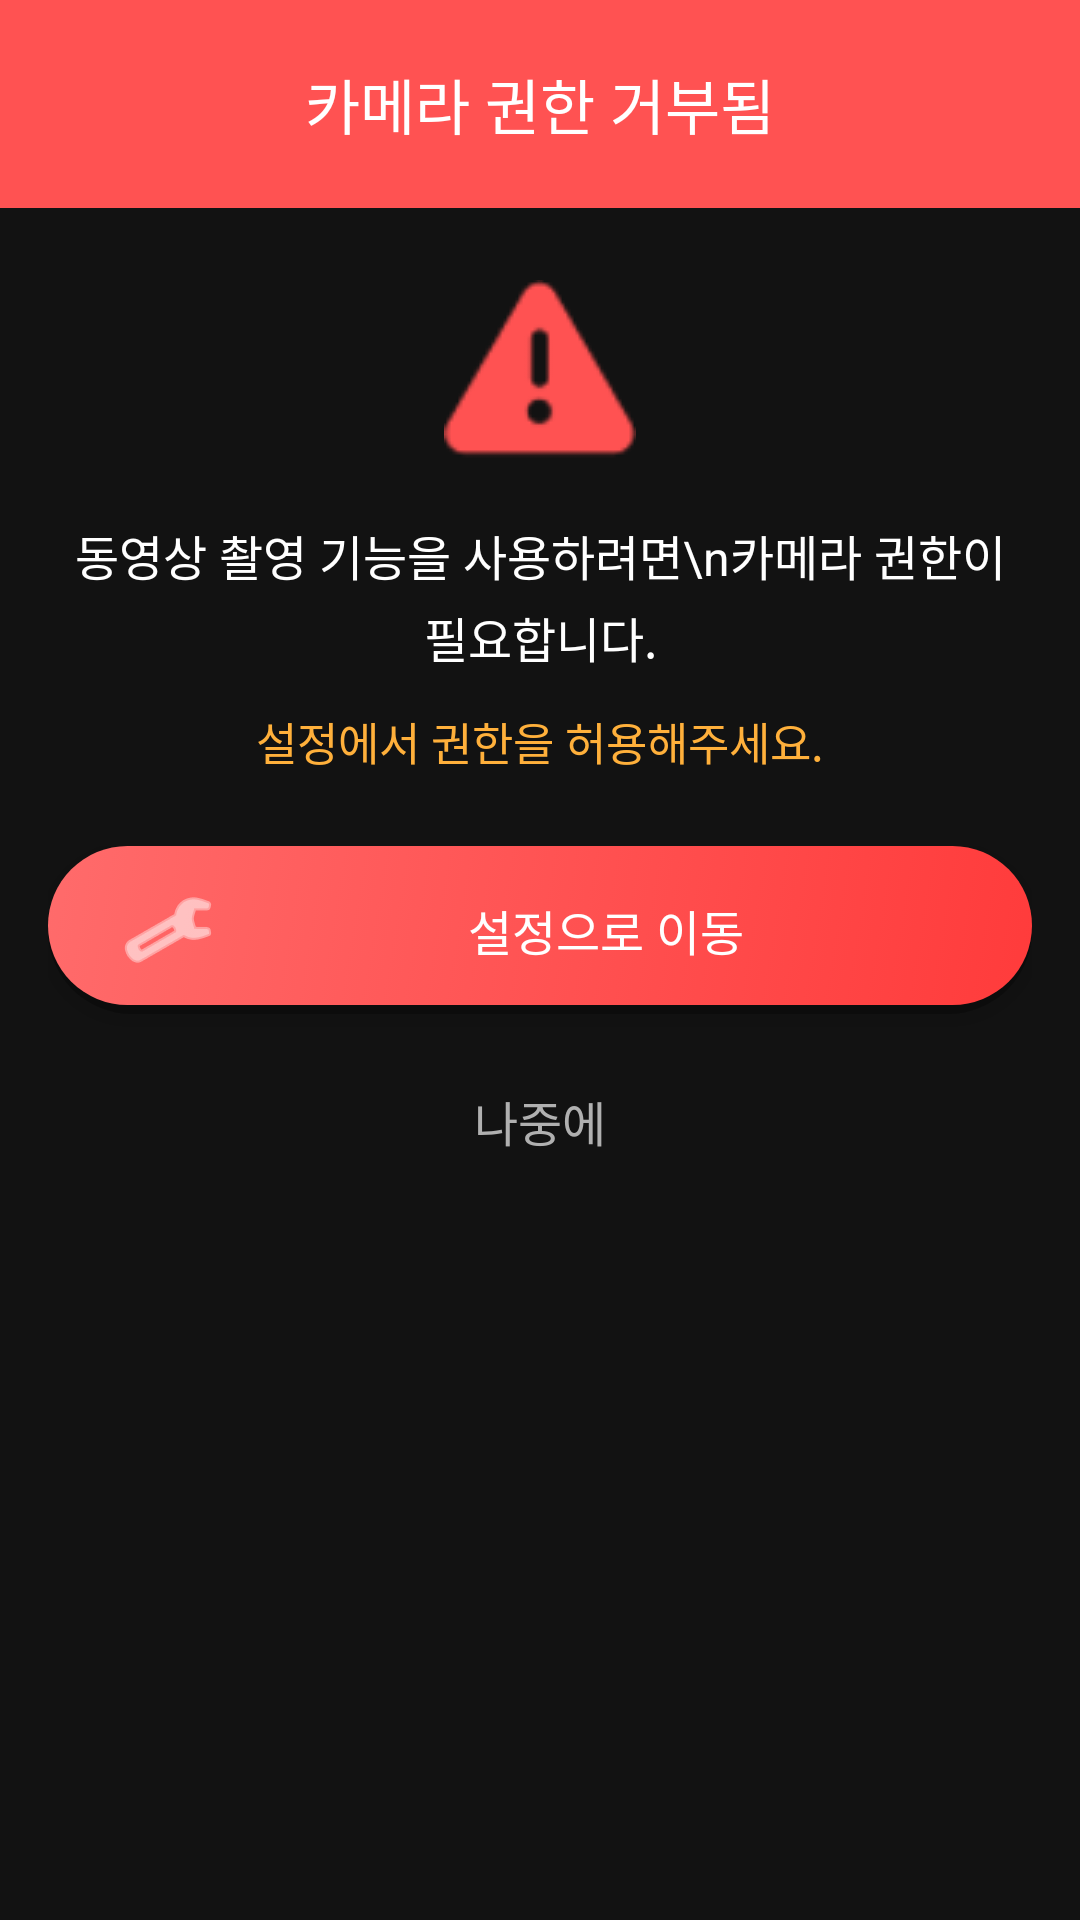

Point at icon controls on the screen. Image size 1080x1920, points as (x=x, y=y).
alert: (x=540, y=367)
